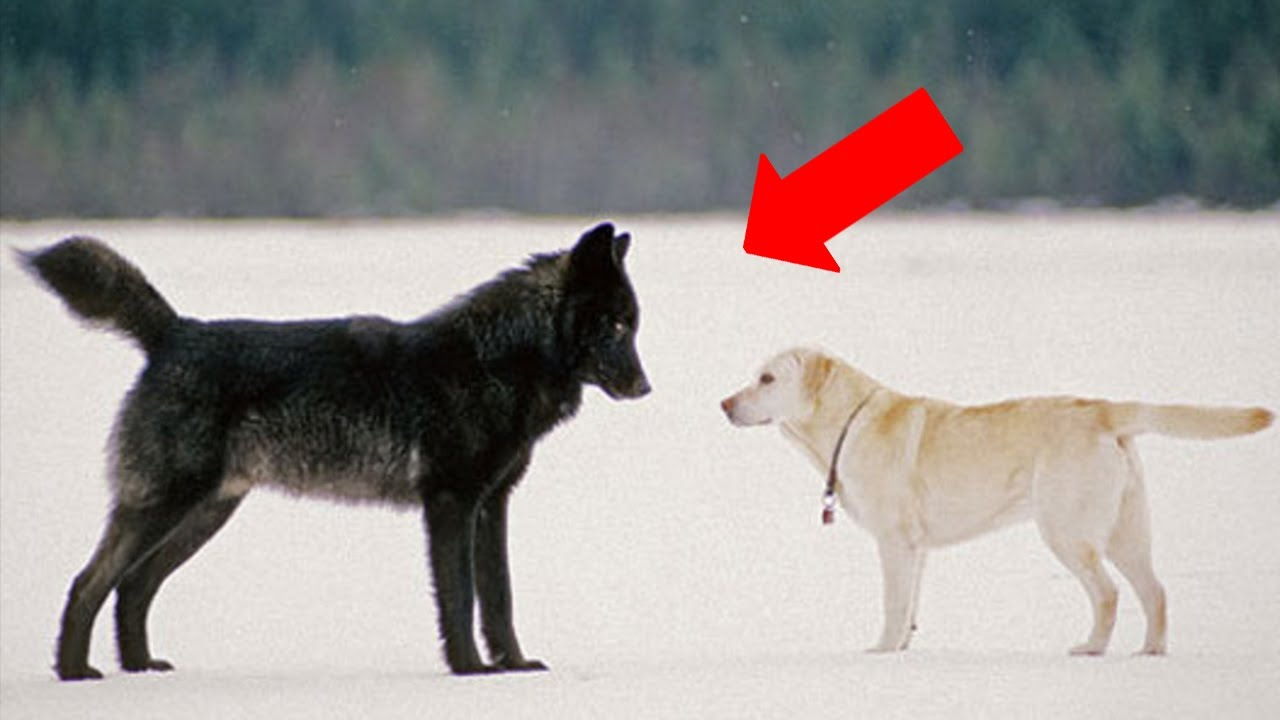dog: (718, 342, 1280, 662)
wolf: (24, 224, 646, 686)
